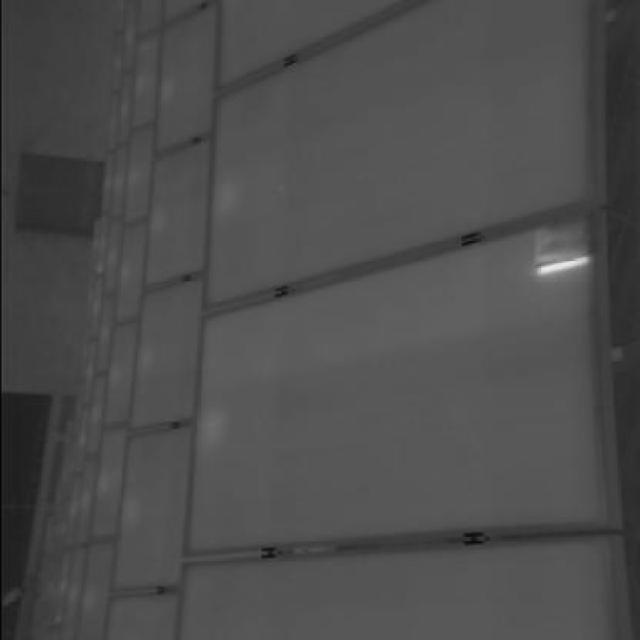hotspot: (532, 219, 586, 281)
